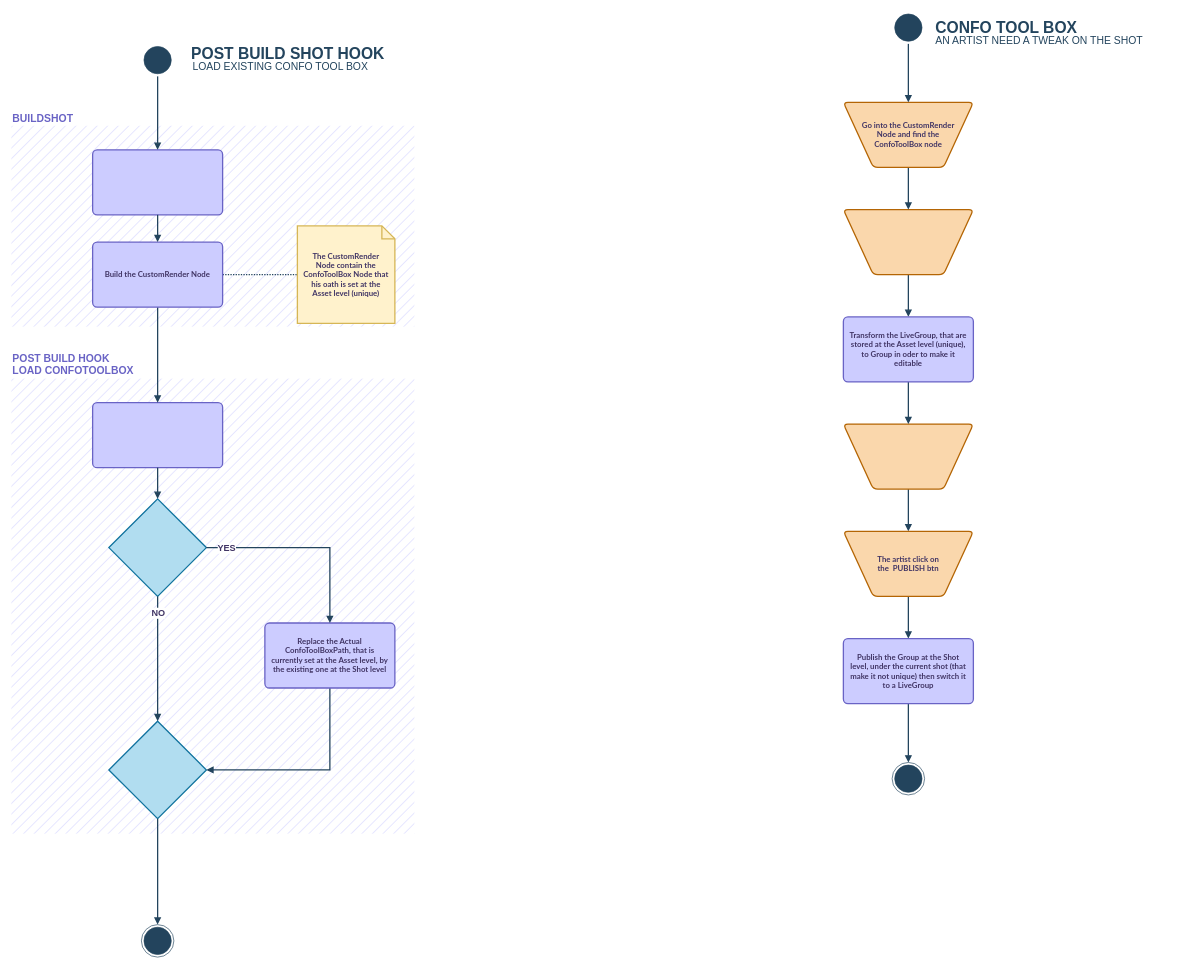
Some shapes in this 1192 by 968 pixel diagram are drawn without their labels. Each missing label, with the box of its shape:
A Published File exists?: (108, 498, 207, 597)
Build Shot other Processes...: (92, 149, 223, 215)
Get the last ConfoToolBox published file for the given shot: (92, 402, 223, 468)
The artist click on the EDIT btn: (842, 209, 974, 275)
The artist tweaks the ConfoToolBox: (842, 423, 974, 489)
